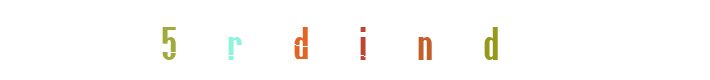5: (193, 0, 273, 80)
D: (308, 0, 388, 80), (319, 0, 399, 80)
I: (315, 0, 395, 80)
N: (317, 0, 397, 80)
R: (299, 0, 379, 80)
